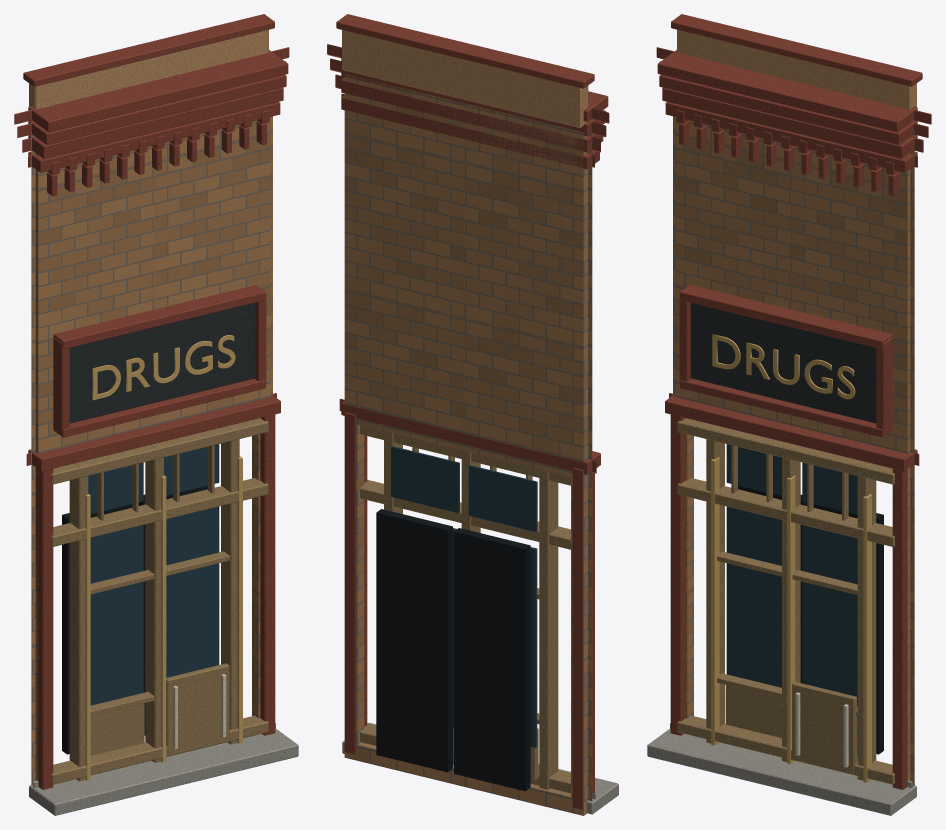
File: BUSS5_lod1.glb
3 renders of one model, left to right at view 1: azimuth 30°, elevation 25°; view 2: azimuth 150°, elevation 25°; view 3: azimuth 330°, elevation 25°, orthographic. The views are drawn at different scales.
Parts seen in each view (by area): view 1: BUSS5_FRONT_LOD1; view 2: BUSS5_FRONT_LOD1; view 3: BUSS5_FRONT_LOD1.
Part boxes in pixels (x1,y1,x2,y2): BUSS5_FRONT_LOD1: [14, 14, 298, 815]; BUSS5_FRONT_LOD1: [327, 14, 618, 815]; BUSS5_FRONT_LOD1: [647, 14, 931, 815].
Size of the model in its own units: 3.78 by 9.44 by 1.
Materials: 11 (8 with a texture image).
